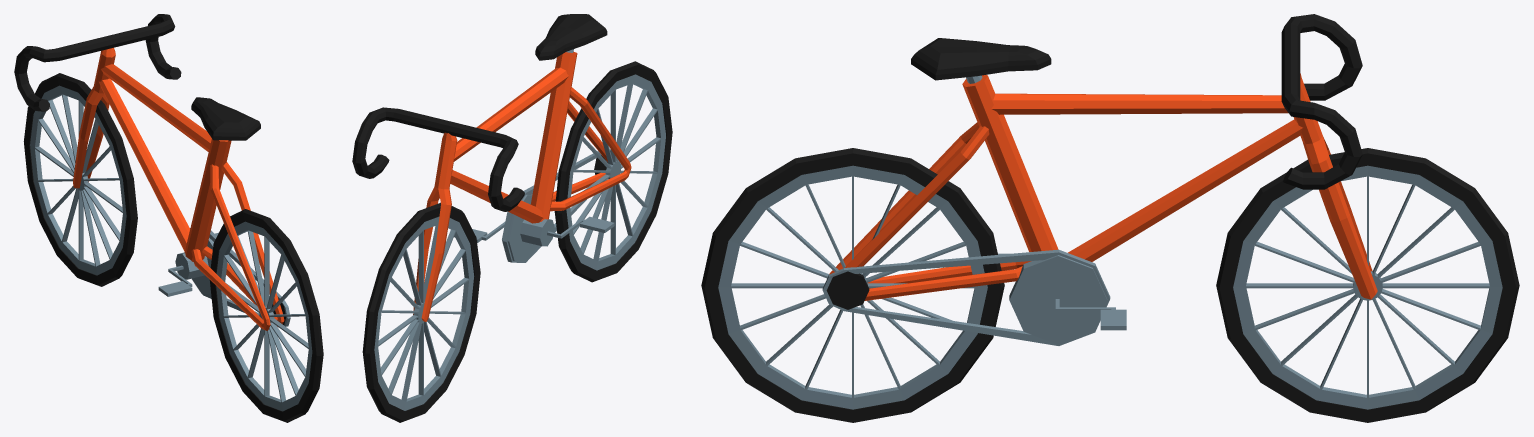
File: Bicycle.glb
3 views of the same model, side by side, from view 1: azimuth 30°, elevation 25°; view 2: azimuth 150°, elevation 25°; view 3: azimuth 270°, elevation 25° (orthographic). The views are drawn at different scales.
Parts seen in each view (by area): view 1: Circle.004; view 2: Circle.004; view 3: Circle.004.
Boxes of the visible parts, box(x1,y1,x2,y2) form: Circle.004: box(14, 14, 323, 422); Circle.004: box(352, 14, 672, 422); Circle.004: box(701, 14, 1519, 422).
Size of the model in its own units: 5.46 by 9.96 by 19.58.
